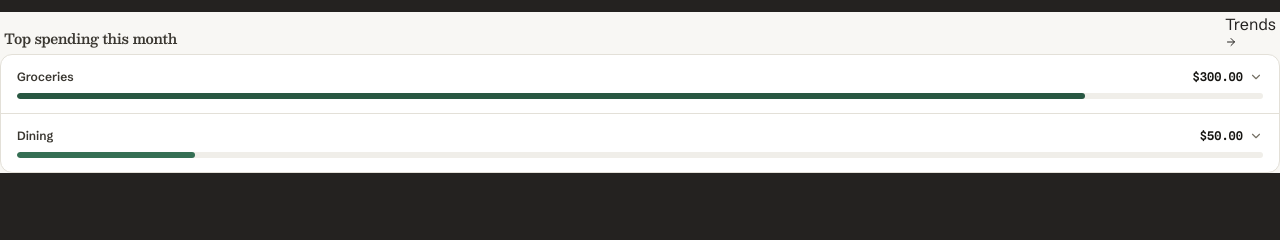
Scenario: CategorySpendWidget › only one row is expanded at a time
The width and height of the screenshot is (1280, 240).
Click the button "Groceries $300.00" at (45, 76), box [17, 69, 1263, 99]
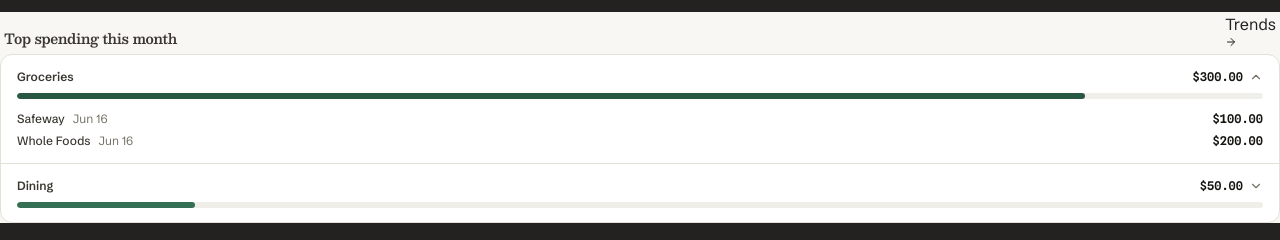
Result: the text "Safeway" is shown at [17, 111, 65, 127]
Click the button "Dining $50.00" at (35, 186), box [17, 178, 1263, 208]
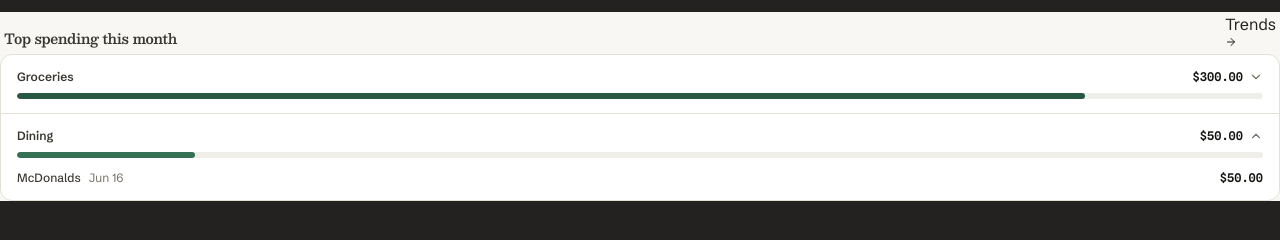
Result: the text "McDonalds" is shown at [17, 170, 81, 186]
Result: the text "Safeway" is gone
Result: the button "Groceries $300.00" is collapsed at [17, 69, 1263, 99]
